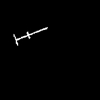double_crochet: (14, 28, 46, 44)
